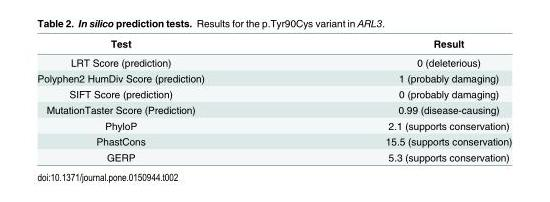table: (36, 37, 511, 162)
table column: (36, 37, 294, 162), (294, 37, 511, 162)
table column header: (36, 37, 511, 52)
table row: (36, 52, 511, 70), (36, 85, 511, 101), (36, 101, 511, 117), (36, 117, 511, 133), (36, 37, 511, 52), (36, 70, 511, 85), (36, 133, 511, 148), (36, 148, 511, 162)
